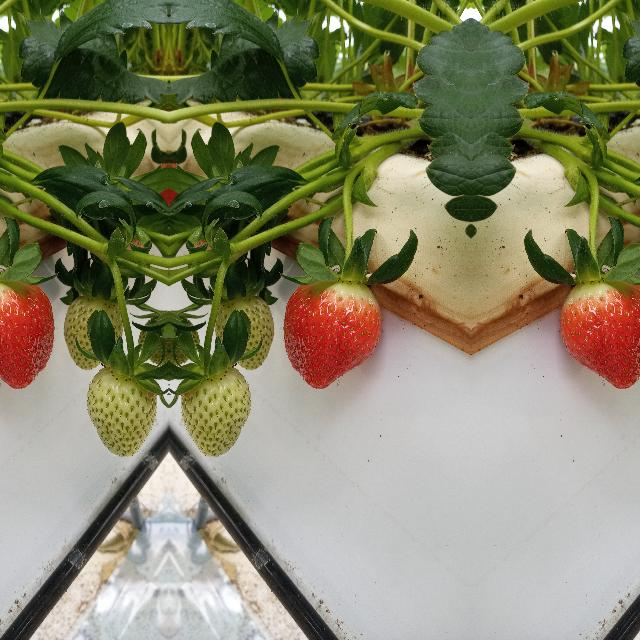Health_100: (283, 280, 383, 388), (558, 280, 640, 388), (0, 280, 53, 388)
Health_25: (180, 360, 250, 454), (86, 360, 156, 454), (210, 285, 274, 365), (62, 285, 126, 365)
